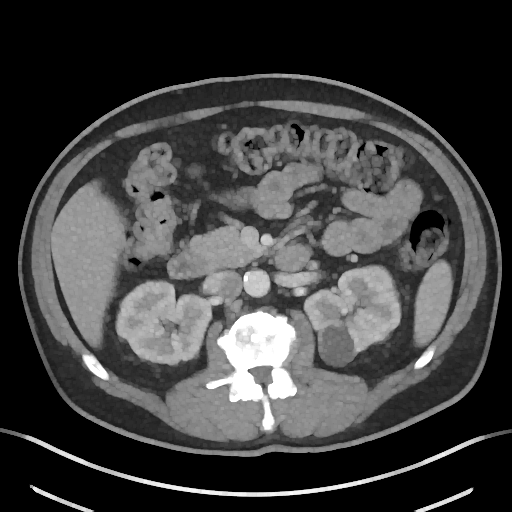Lesion: (317, 324, 356, 370)
